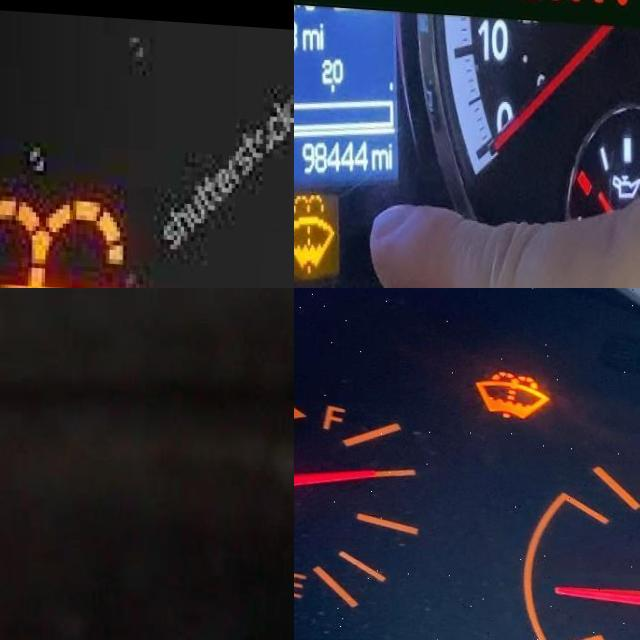Washer Fluid: (0, 186, 228, 288), (477, 364, 551, 416)
